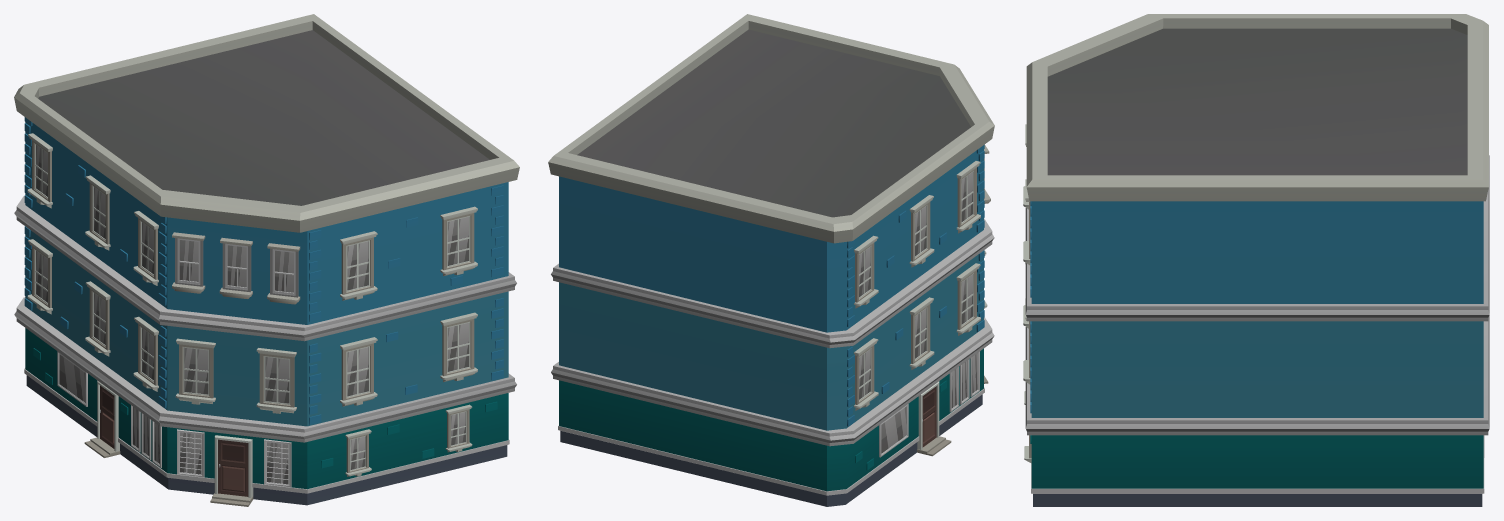
The model's file is Building_25_3_F.glb.
3 views of the same model, side by side, from view 1: azimuth 30°, elevation 25°; view 2: azimuth 150°, elevation 25°; view 3: azimuth 270°, elevation 25° (orthographic). The views are drawn at different scales.
Parts seen in each view (by area): view 1: Building_25_3_F; view 2: Building_25_3_F; view 3: Building_25_3_F.
Part boxes in pixels (x1,y1,x2,y2): Building_25_3_F: (14, 14, 519, 506); Building_25_3_F: (548, 14, 994, 506); Building_25_3_F: (1023, 14, 1489, 506).
Bounding box in the file's own units: 12.91 × 11.59 × 14.79.
Materials: 3 (3 with a texture image).
